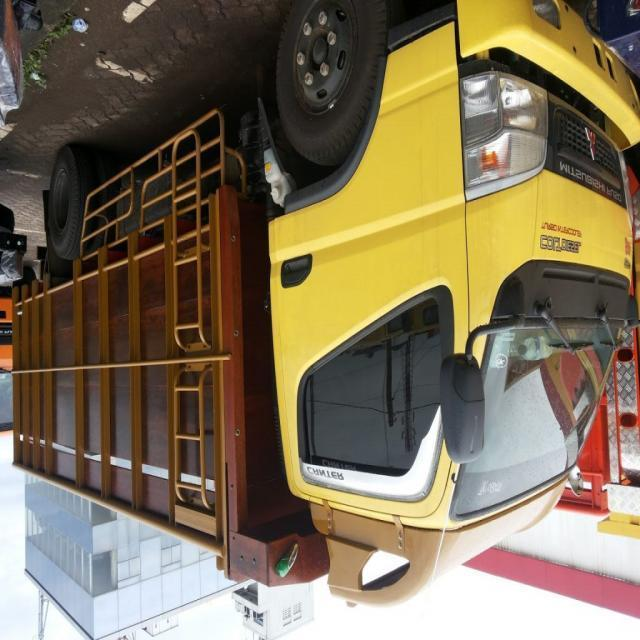truck: (12, 1, 640, 605)
